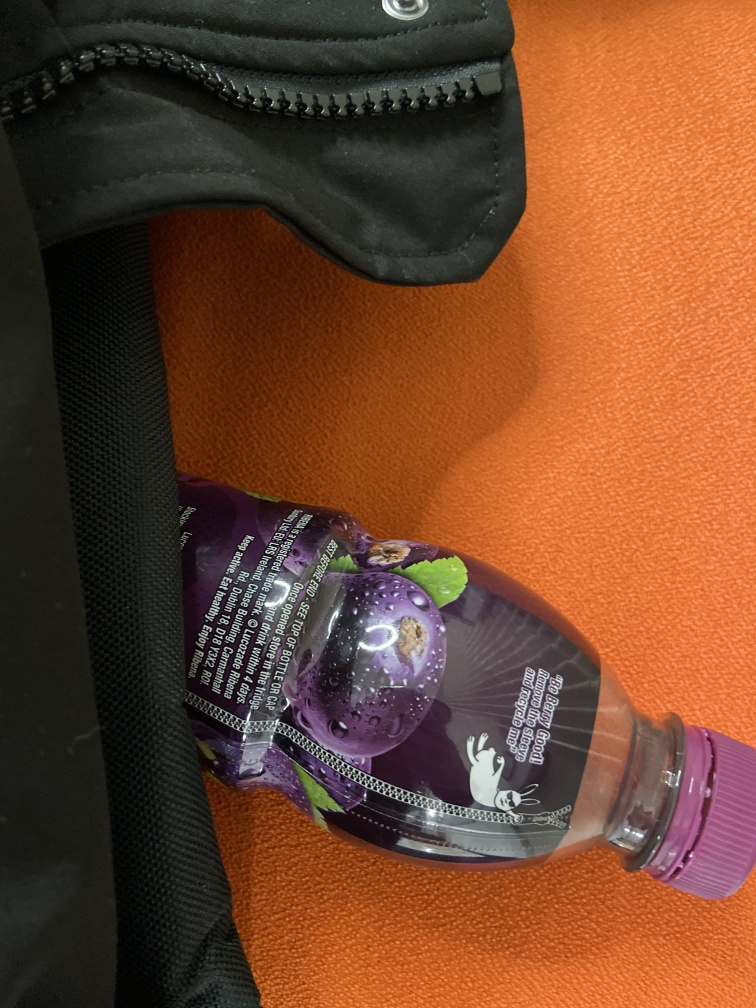bottle_purple: (171, 463, 756, 902)
